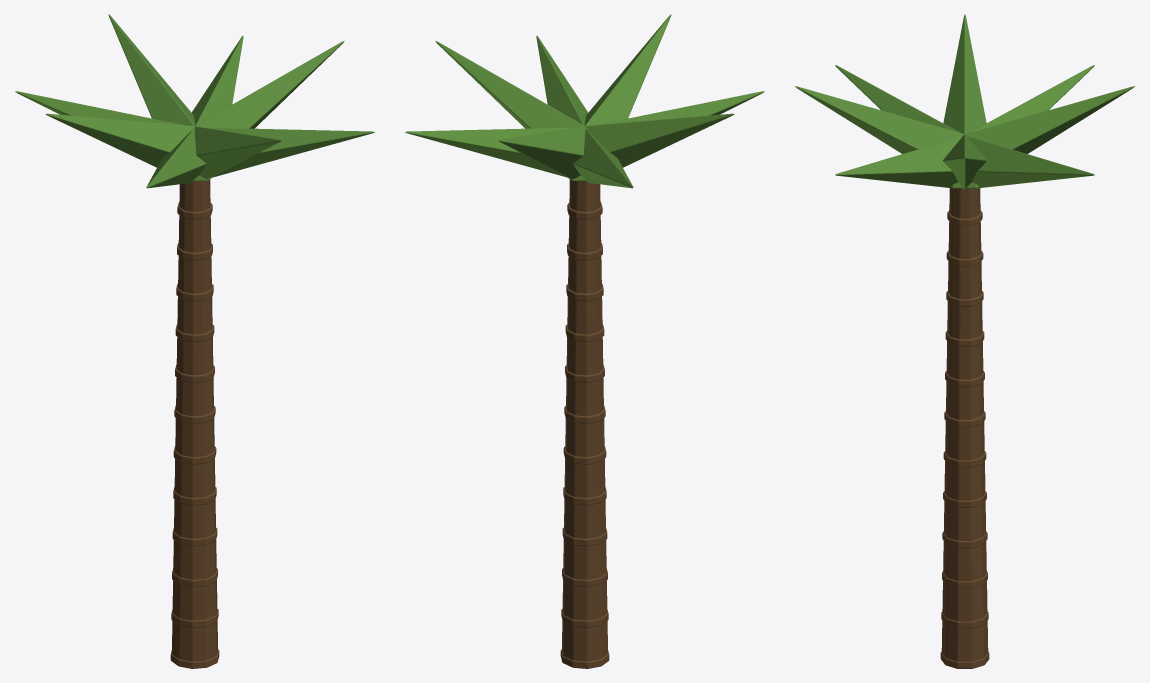
File: egipto_palm.fbx
3 renders of one model, left to right at view 1: azimuth 30°, elevation 25°; view 2: azimuth 150°, elevation 25°; view 3: azimuth 270°, elevation 25°, orthographic.
Parts seen in each view (by area): view 1: egipto_palm; view 2: egipto_palm; view 3: egipto_palm.
Part boxes in pixels (bbox=[...]): egipto_palm: bbox=[15, 14, 374, 668]; egipto_palm: bbox=[405, 14, 764, 668]; egipto_palm: bbox=[794, 14, 1135, 668].
Size of the model in its own units: 3.48 by 6.45 by 3.48.
